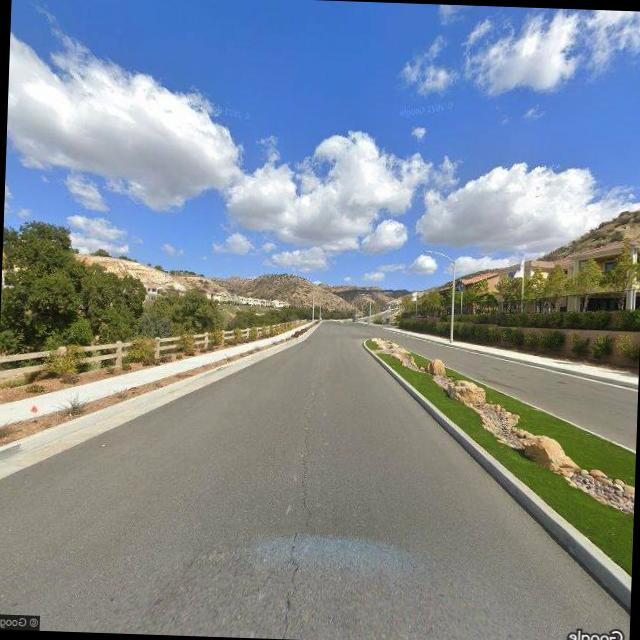pothole: (274, 394, 320, 639)
